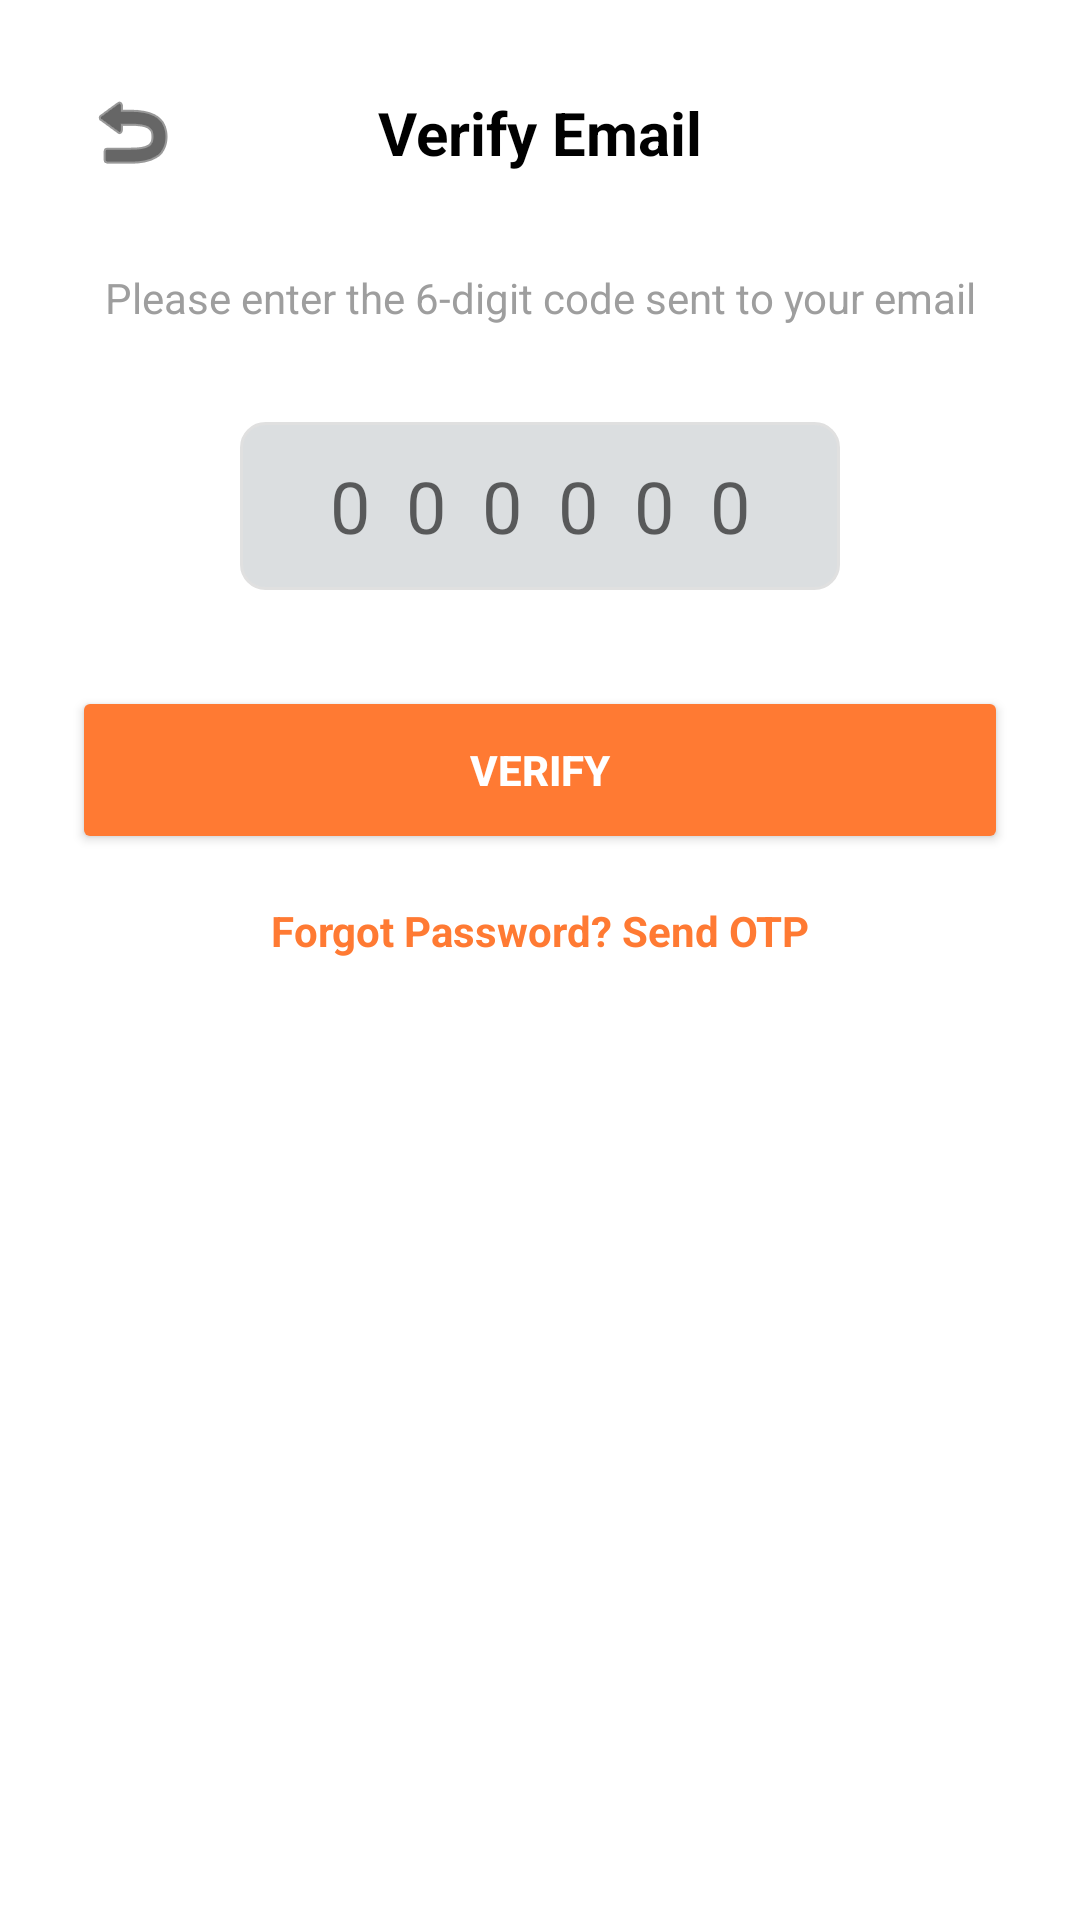

Where to tap for icons on this 1080px×1920px app screen, as (x=x, y=y):
revert: (x=133, y=132)
